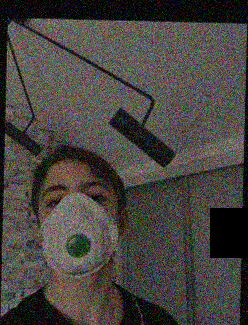with_mask: (38, 170, 119, 277)
